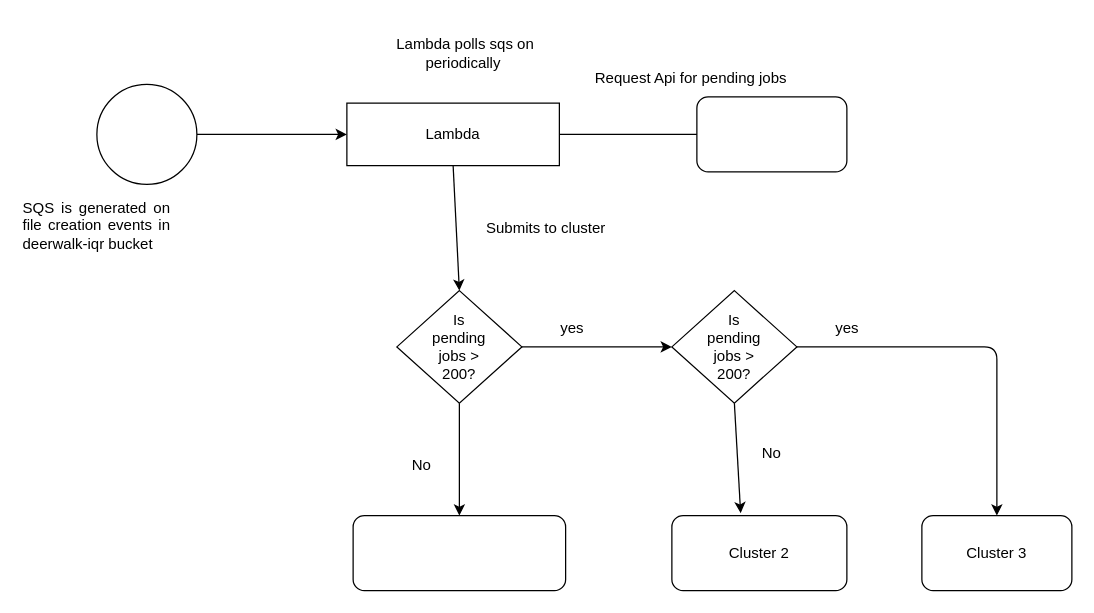
The diagram is 1094 pixels wide and 613 high, and some of its shapes have lost their labels. Here are the shapes that lost their labels. From the top down, the centre of each, then its label:
At point 146,133: "SQS".
At point 771,134: "Processing Services".
At point 459,552: "Cluster 1".
